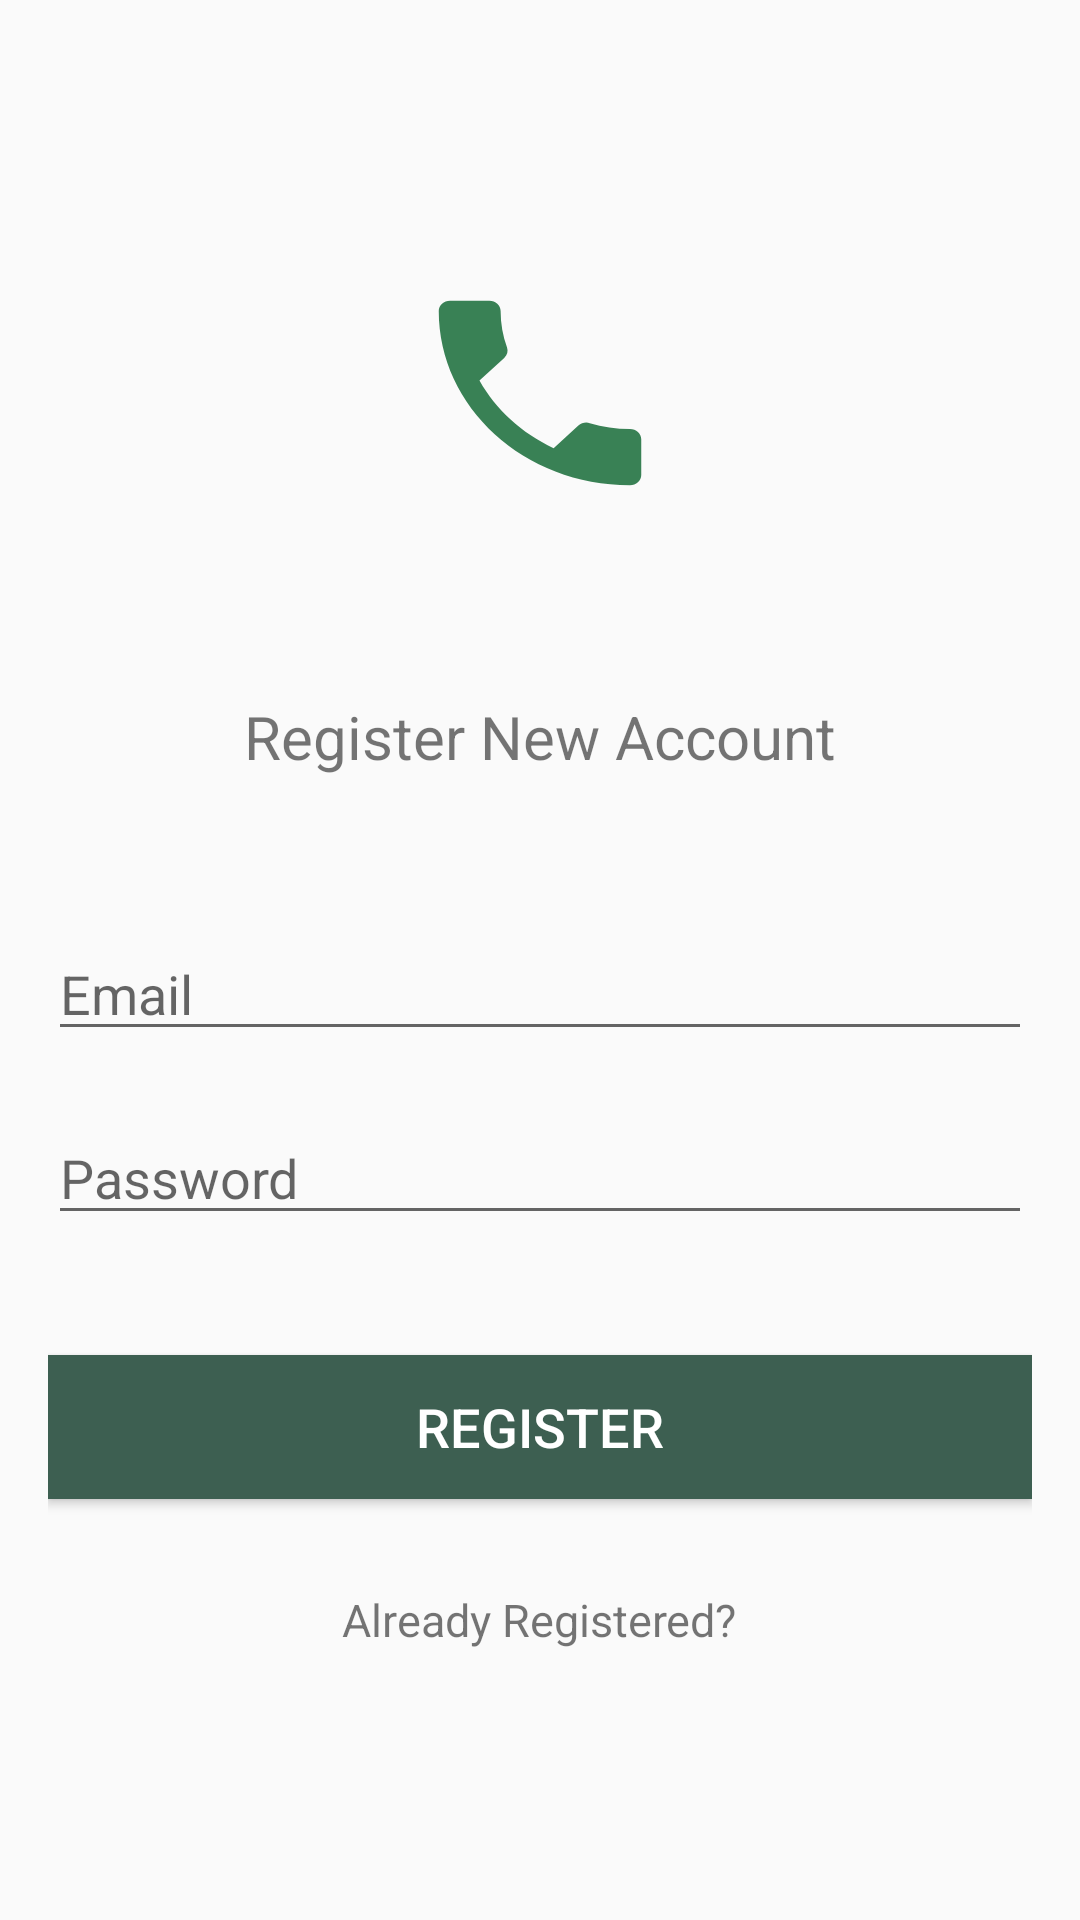

Icons on this 1080px×1920px Android screen, each with the point to tap as point (x, y):
phone: point (540, 393)
